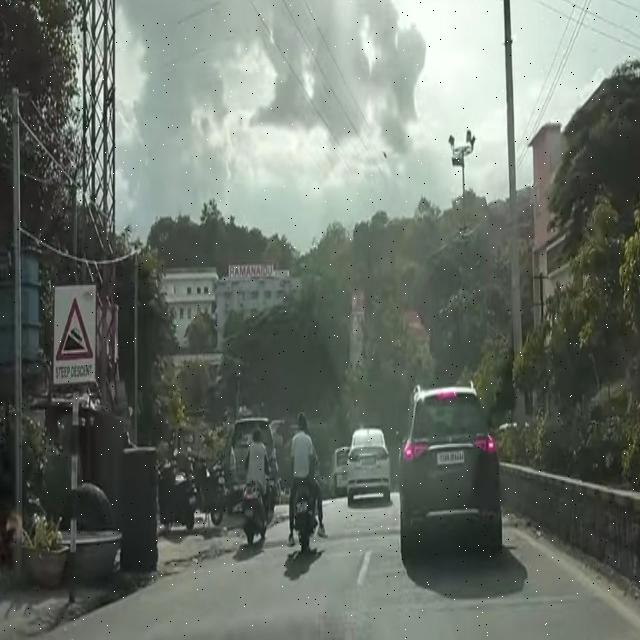steep_descent: (51, 286, 98, 393)
